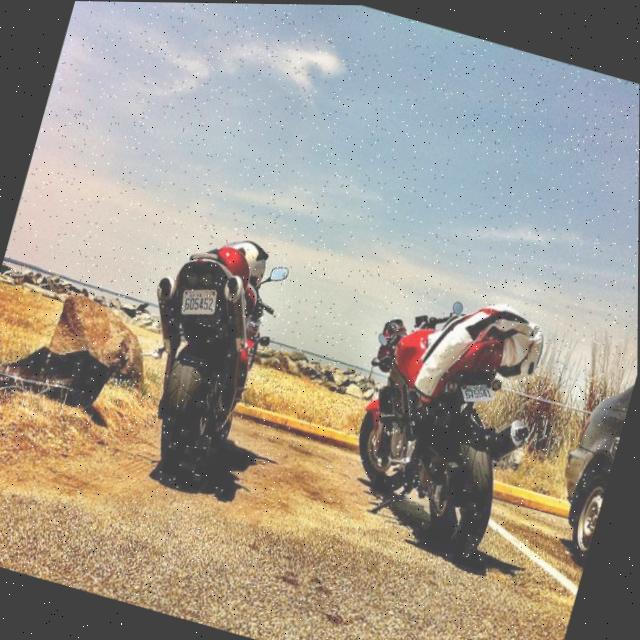motorcycle: (312, 266, 582, 585), (110, 210, 296, 487), (451, 365, 502, 414)
plate: (175, 279, 224, 322)
